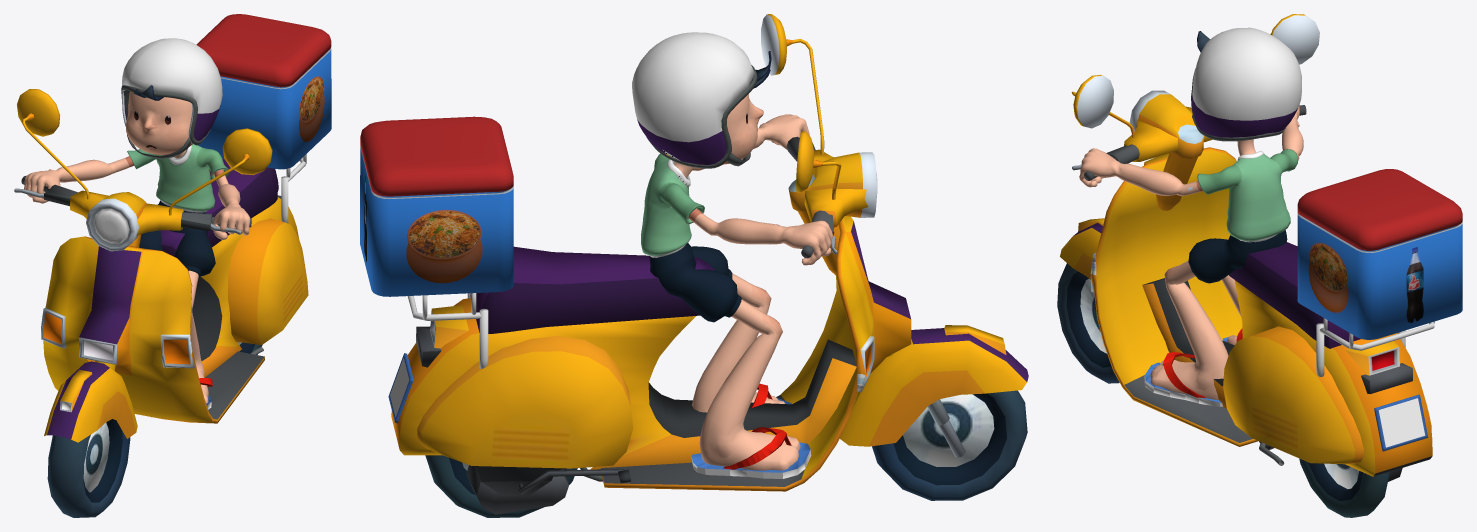
Rendered from DeliveryBoy1-transformed.glb.
3 views of the same model, side by side, from view 1: azimuth 30°, elevation 25°; view 2: azimuth 150°, elevation 25°; view 3: azimuth 270°, elevation 25° (orthographic). The views are drawn at different scales.
Visible parts, largest first — view 1: model_2.001; view 2: model_2.001; view 3: model_2.001.
Boxes of the visible parts, box(x1,y1,x2,y2) form: model_2.001: box(14, 14, 331, 517); model_2.001: box(360, 14, 1028, 517); model_2.001: box(1057, 14, 1462, 517).
Size of the model in its own units: 0.8728 by 0.7822 by 0.6841.
Materials: 4 (3 with a texture image).
